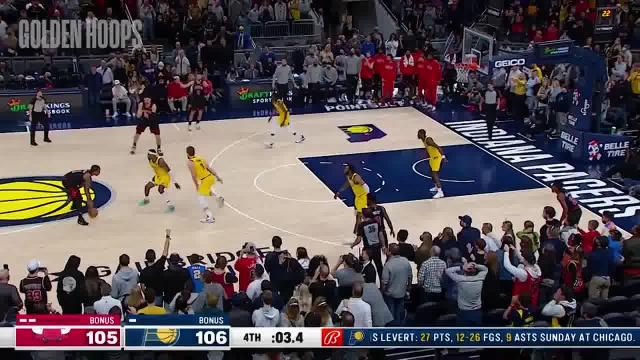ball-handler: (58, 163, 102, 224)
player: (184, 143, 226, 224), (412, 123, 451, 204), (136, 147, 183, 213), (131, 91, 165, 158), (266, 92, 304, 151), (339, 161, 371, 227), (181, 70, 210, 132), (548, 178, 583, 226), (364, 192, 393, 243)
